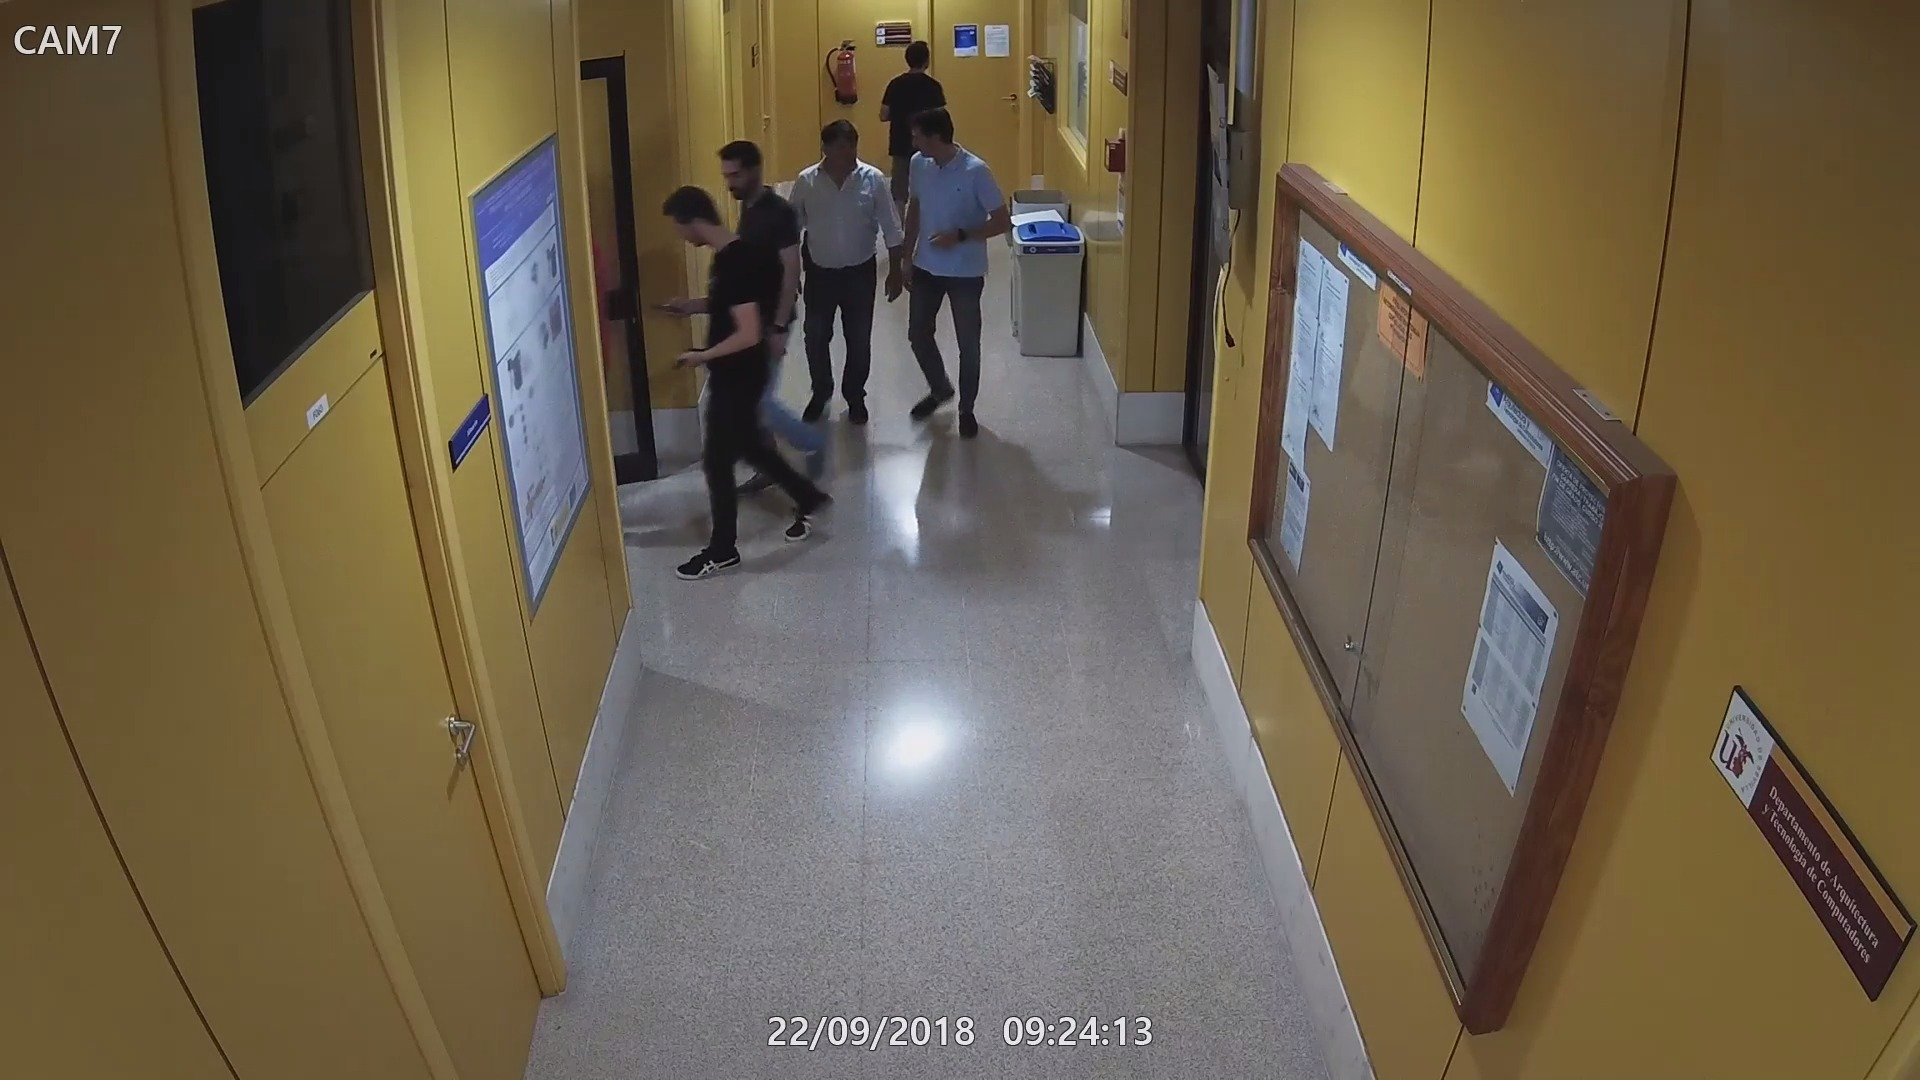Handgun: (669, 338, 711, 377)
